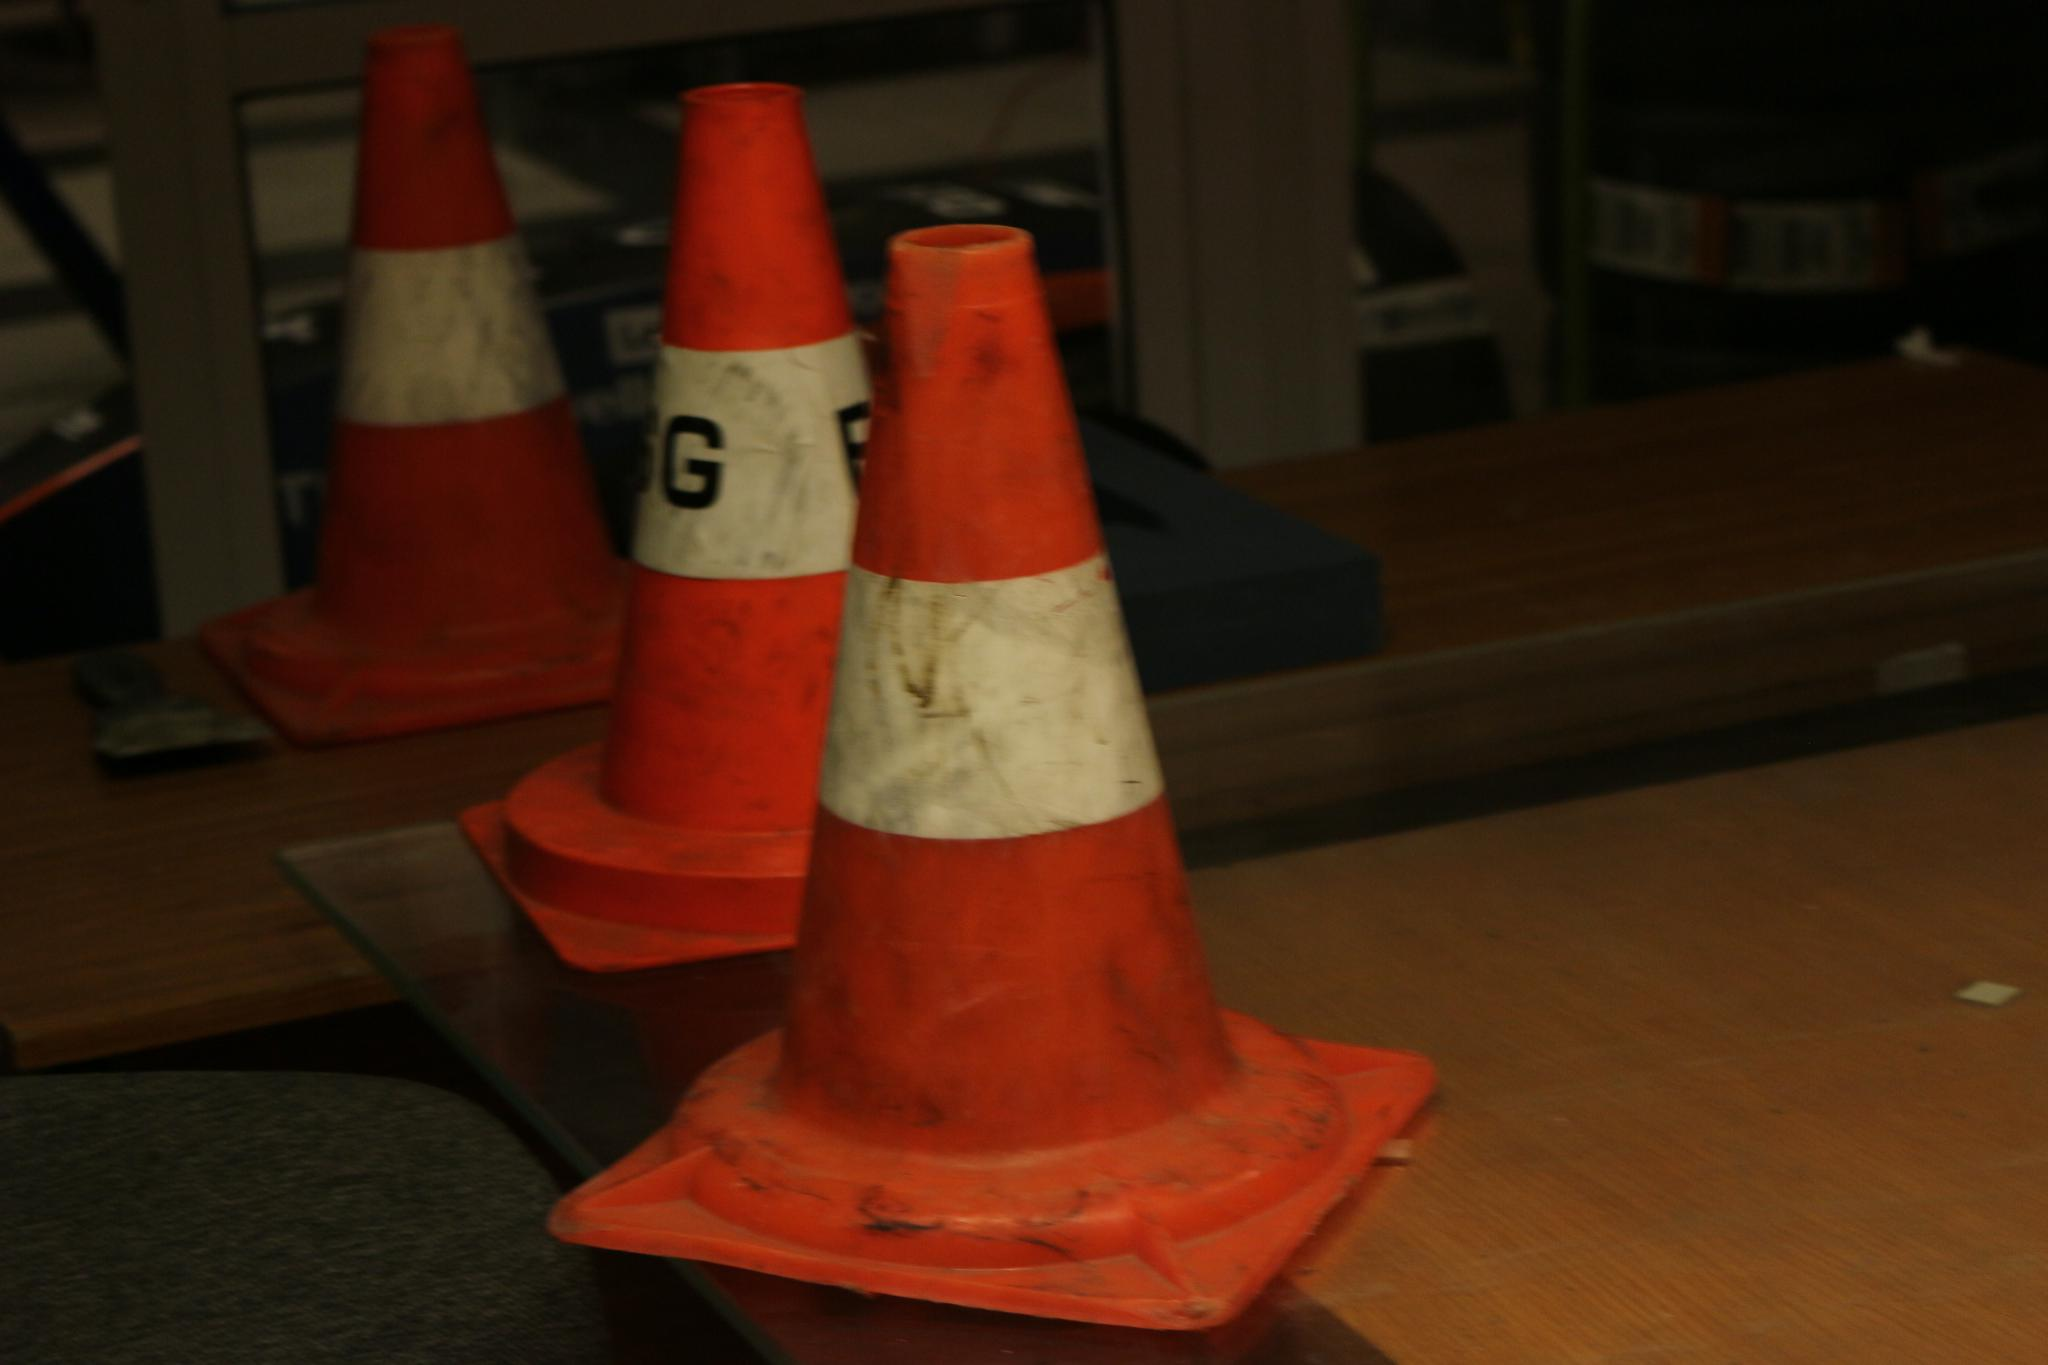Orange_Cone: (719, 201, 1340, 1261), (533, 75, 979, 922), (222, 34, 635, 718)
